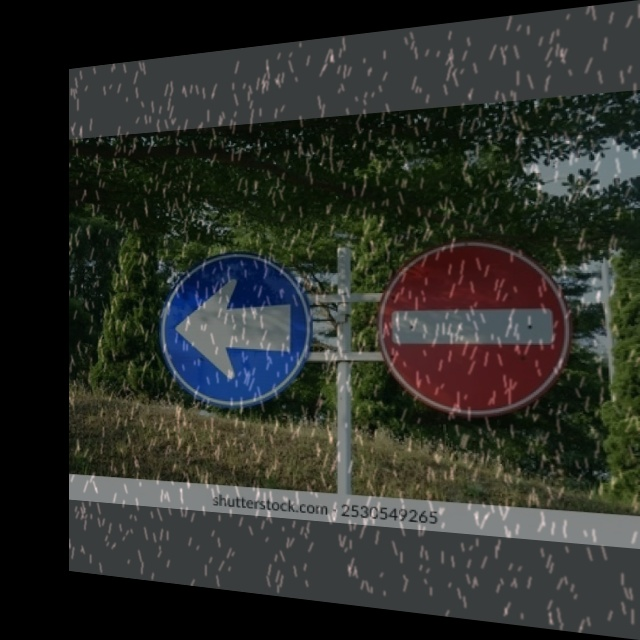Compulsory_Turn_Left: (157, 248, 312, 409)
